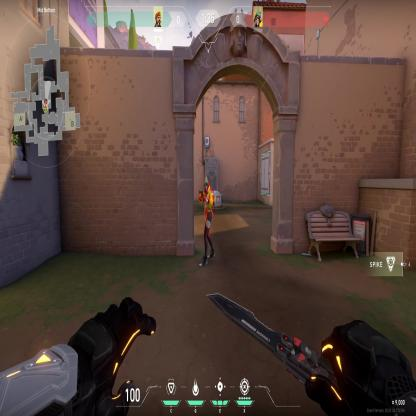enemy: (197, 174, 216, 270)
